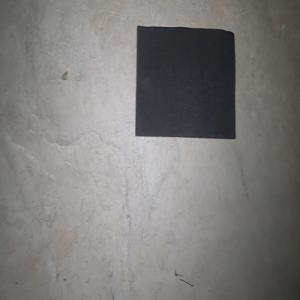PaintChip: (135, 25, 235, 139)
